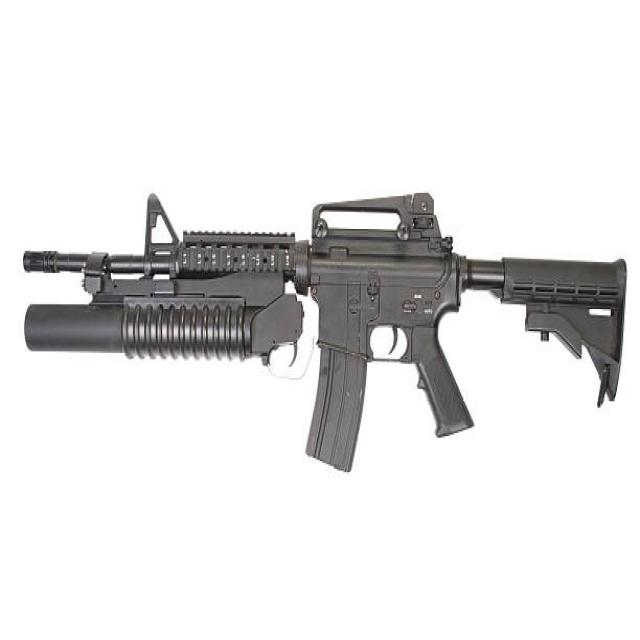rifle: (18, 181, 633, 485)
